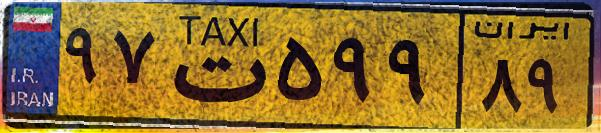5: (270, 28, 330, 110)
7: (110, 28, 158, 98)
8: (475, 38, 525, 113)
9: (385, 28, 445, 110), (330, 28, 385, 110), (57, 26, 110, 100), (525, 38, 570, 115)
ت: (158, 12, 270, 120)
